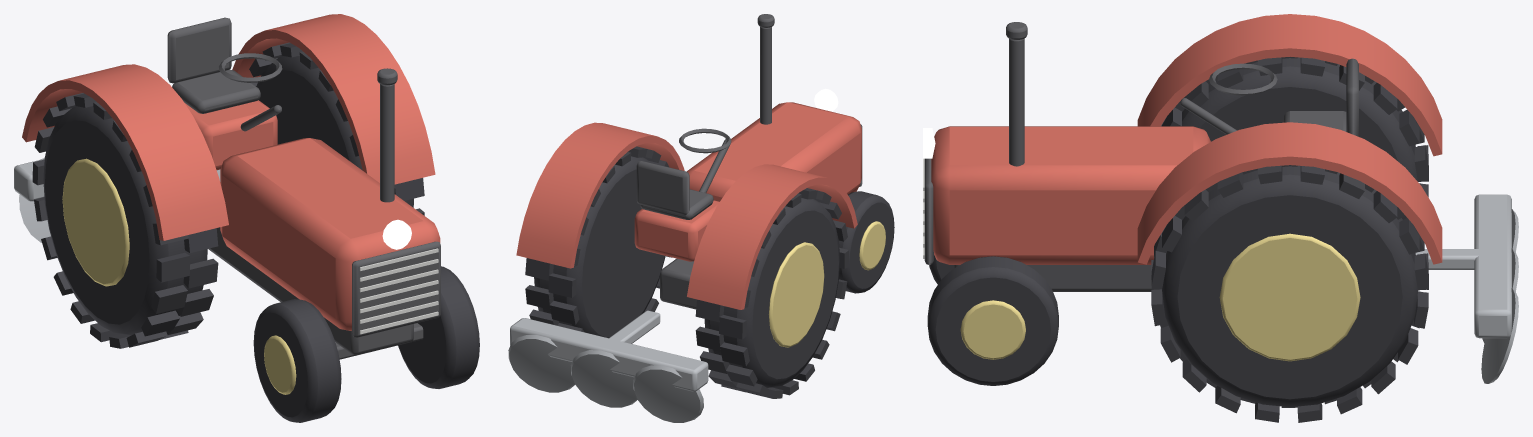
File: farm_tractor.glb
3 renders of one model, left to right at view 1: azimuth 30°, elevation 25°; view 2: azimuth 150°, elevation 25°; view 3: azimuth 270°, elevation 25°, orthographic. The views are drawn at different scales.
Parts seen in each view (by area): view 1: tr_hood, tr_fender-1, tr_rear-1, tr_fender1, tr_tread-1, tr_front-1, tr_rear-1_hub, tr_front1, tr_rear1, tr_grille, tr_seat_back, tr_seat_base (+9 smaller); view 2: tr_rear1, tr_fender-1, tr_fender1, tr_rear-1, tr_hood, tr_tread-1, tr_plough_frame, tr_rear-1_hub, tr_tread1, tr_front-1, tr_seat_base, tr_disc-6 (+11 smaller); view 3: tr_rear1, tr_hood, tr_fender1, tr_rear1_hub, tr_fender-1, tr_front1, tr_tread1, tr_rear-1, tr_plough_frame, tr_tread-1, tr_front1_hub, tr_belly (+8 smaller).
Part boxes in pixels (x1,y1,x2,y2): tr_hood: (220, 138, 440, 330); tr_fender-1: (22, 64, 228, 240); tr_rear-1: (43, 106, 207, 335); tr_fender1: (232, 14, 435, 184); tr_tread-1: (32, 93, 218, 348); tr_front-1: (253, 299, 341, 422); tr_rear-1_hub: (62, 158, 129, 286); tr_front1: (398, 266, 479, 388); tr_rear1: (256, 55, 413, 207); tr_grille: (352, 241, 440, 337); tr_seat_back: (167, 17, 231, 83); tr_seat_base: (185, 100, 277, 170); tr_rear1: (534, 156, 665, 338); tr_fender-1: (687, 164, 857, 309); tr_fender1: (516, 122, 684, 268); tr_rear-1: (704, 198, 839, 387); tr_hood: (687, 102, 861, 201); tr_tread-1: (695, 188, 848, 398); tr_plough_frame: (510, 318, 708, 391); tr_rear-1_hub: (768, 242, 824, 347); tr_tread1: (525, 146, 671, 331); tr_front-1: (839, 191, 894, 293); tr_seat_base: (634, 200, 719, 261); tr_disc-6: (633, 365, 703, 422); tr_rear1: (1162, 165, 1418, 407); tr_hood: (931, 126, 1210, 264); tr_fender1: (1137, 122, 1442, 264); tr_rear1_hub: (1219, 233, 1360, 361); tr_fender-1: (1137, 14, 1442, 156); tr_front1: (927, 256, 1058, 385); tr_tread1: (1151, 165, 1428, 422); tr_rear-1: (1182, 57, 1417, 219); tr_plough_frame: (1474, 194, 1511, 338); tr_tread-1: (1161, 57, 1428, 197); tr_front1_hub: (960, 300, 1025, 359); tr_belly: (954, 265, 1151, 291).
Size of the model in its own units: 2.16 by 2.44 by 3.82.
